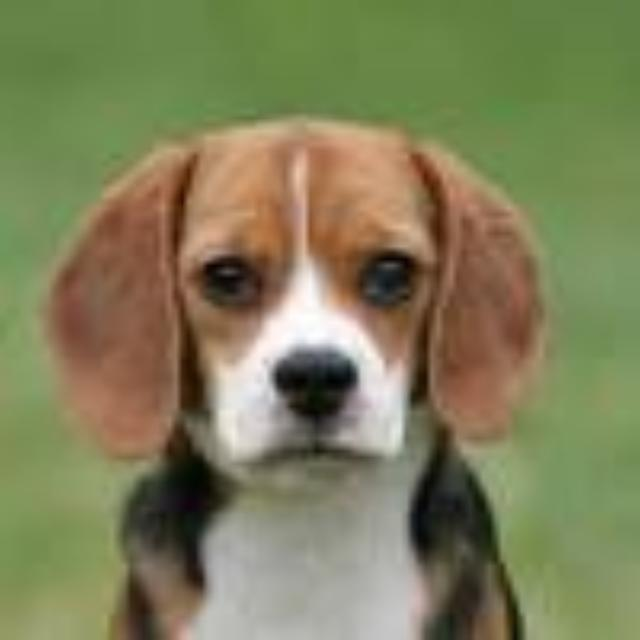dog: (33, 96, 567, 522)
